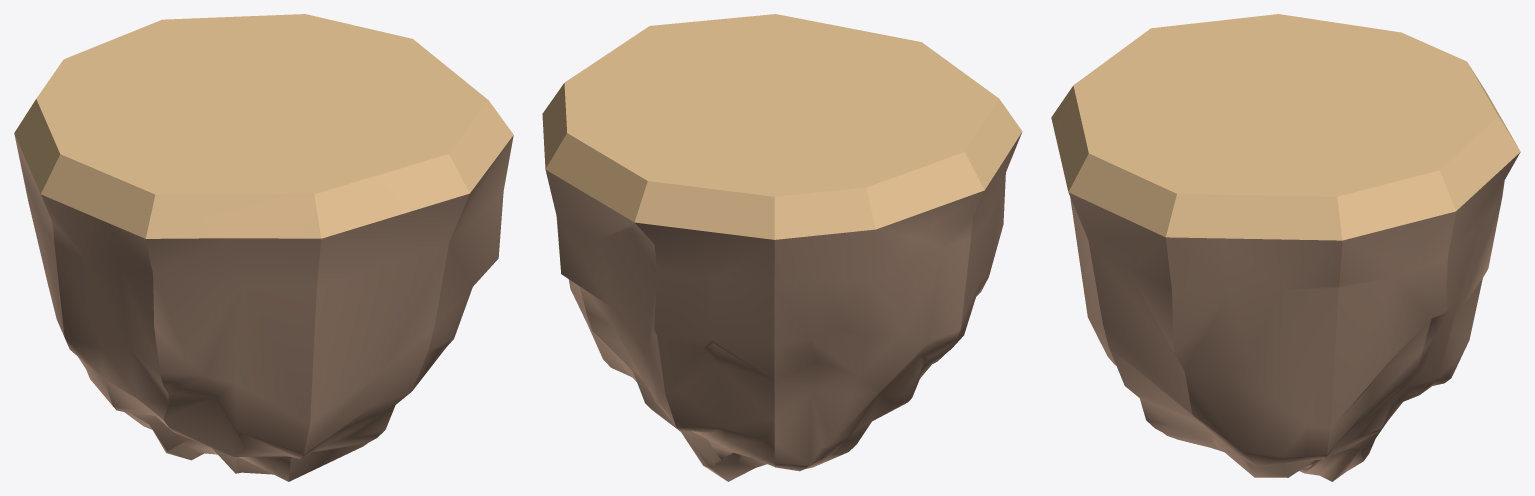
The model's file is tile_2_5.fbx.
3 renders of one model, left to right at view 1: azimuth 30°, elevation 25°; view 2: azimuth 150°, elevation 25°; view 3: azimuth 270°, elevation 25°, orthographic. The views are drawn at different scales.
Visible parts, largest first — view 1: Jump_Map_Tiles_5; view 2: Jump_Map_Tiles_5; view 3: Jump_Map_Tiles_5.
Boxes of the visible parts, left/top/right/bottom form: Jump_Map_Tiles_5: left=14, top=14, right=513, bottom=481; Jump_Map_Tiles_5: left=542, top=14, right=1022, bottom=481; Jump_Map_Tiles_5: left=1051, top=14, right=1520, bottom=481.
Bounding box in the file's own units: 4 × 3.33 × 3.93.
